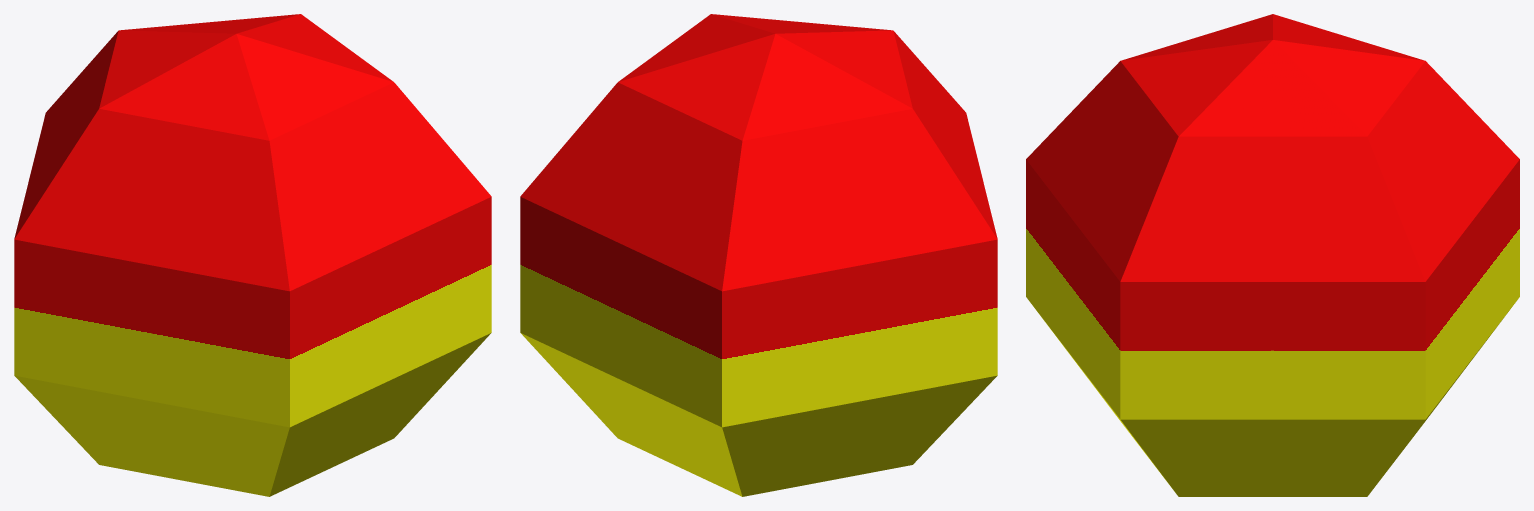
File: eqp_fishing_float_l1.fbx
3 renders of one model, left to right at view 1: azimuth 30°, elevation 25°; view 2: azimuth 150°, elevation 25°; view 3: azimuth 270°, elevation 25°, orthographic.
Parts seen in each view (by area): view 1: mesh_node; view 2: mesh_node; view 3: mesh_node.
Part boxes in pixels (x1=…): mesh_node: x1=14, y1=14, x2=491, y2=496; mesh_node: x1=520, y1=14, x2=997, y2=496; mesh_node: x1=1026, y1=14, x2=1519, y2=496.
Bounding box in the file's own units: 0.0599 × 0.0625 × 0.063.
